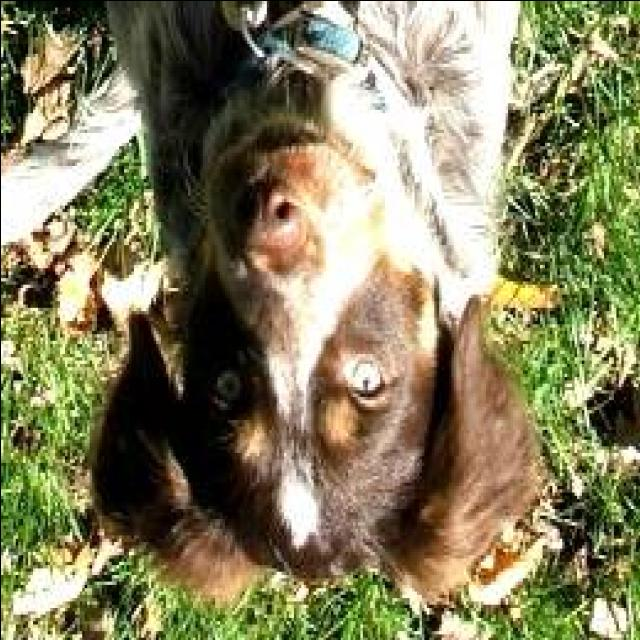dog: (85, 0, 563, 640)
